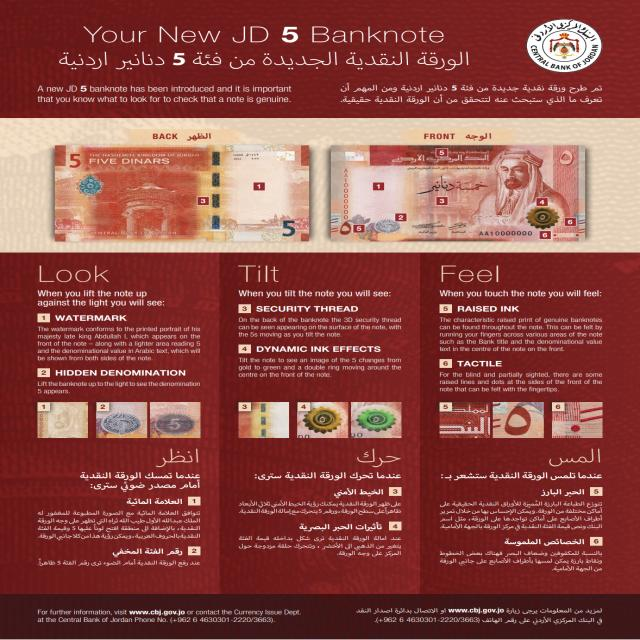5-dinar: (48, 142, 314, 245), (326, 145, 590, 241)
